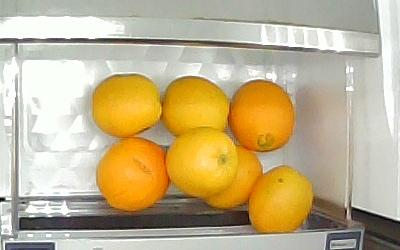orange: (95, 137, 170, 211), (228, 78, 295, 151), (166, 128, 237, 195), (158, 75, 231, 139), (247, 166, 315, 233), (92, 75, 162, 136), (205, 144, 263, 209)
